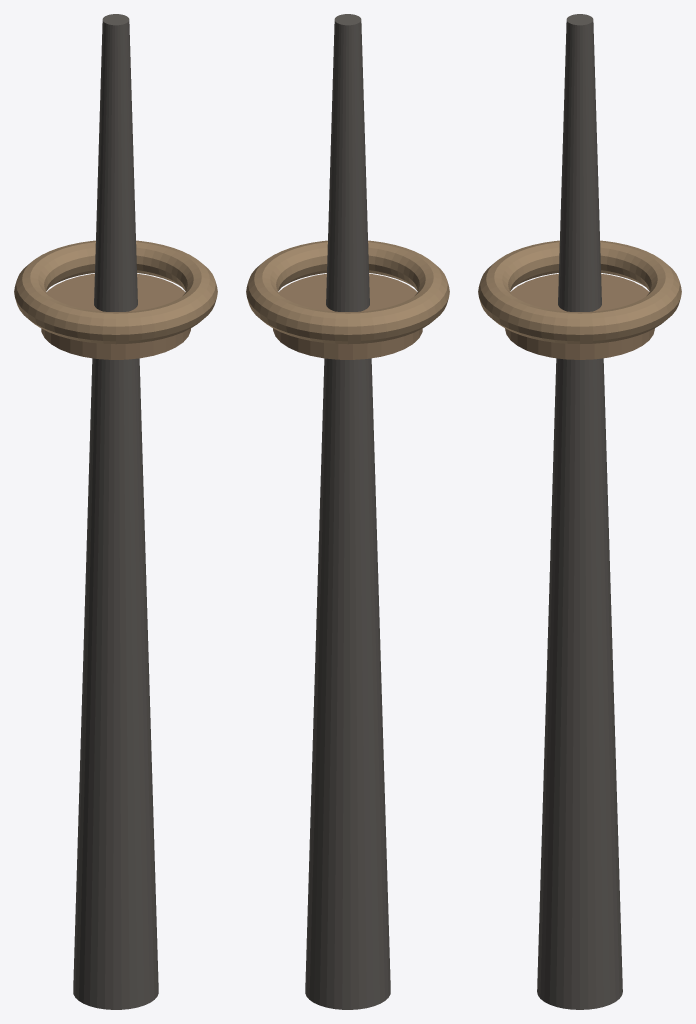
The model's file is mast.glb.
3 renders of one model, left to right at view 1: azimuth 30°, elevation 25°; view 2: azimuth 150°, elevation 25°; view 3: azimuth 270°, elevation 25°, orthographic.
Parts seen in each view (by area): view 1: MastPole, CrowsNestRing, CrowsNestFloor; view 2: MastPole, CrowsNestRing, CrowsNestFloor; view 3: MastPole, CrowsNestRing, CrowsNestFloor.
Part boxes in pixels (x1=…): MastPole: x1=73, y1=14, x2=158, y2=1009; CrowsNestRing: x1=14, y1=240, x2=217, y2=344; CrowsNestFloor: x1=41, y1=273, x2=190, y2=359; MastPole: x1=305, y1=14, x2=390, y2=1009; CrowsNestRing: x1=246, y1=240, x2=449, y2=344; CrowsNestFloor: x1=273, y1=273, x2=422, y2=359; MastPole: x1=537, y1=14, x2=622, y2=1009; CrowsNestRing: x1=478, y1=240, x2=681, y2=343; CrowsNestFloor: x1=505, y1=273, x2=654, y2=359.
Bounding box in the file's own units: 0.38 × 2 × 0.38.
